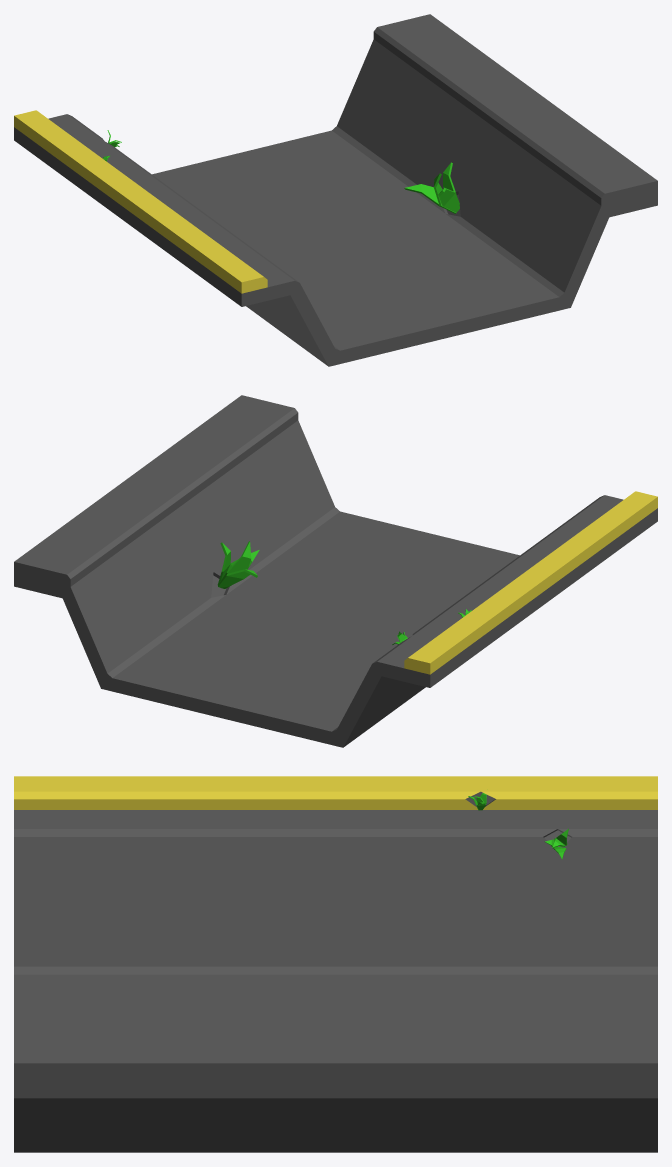
File: Modulo.001 (5).glb
3 views of the same model, one above another, from view 1: azimuth 30°, elevation 25°; view 2: azimuth 150°, elevation 25°; view 3: azimuth 270°, elevation 25° (orthographic). The views are drawn at different scales.
Parts seen in each view (by area): view 1: Modulo.001; view 2: Modulo.001; view 3: Modulo.001.
Part boxes in pixels (left/top/right/bottom): Modulo.001: left=14, top=14, right=657, bottom=366; Modulo.001: left=14, top=395, right=657, bottom=747; Modulo.001: left=14, top=776, right=657, bottom=1152.
Bounding box in the file's own units: 32.52 × 7.9 × 30.82.
